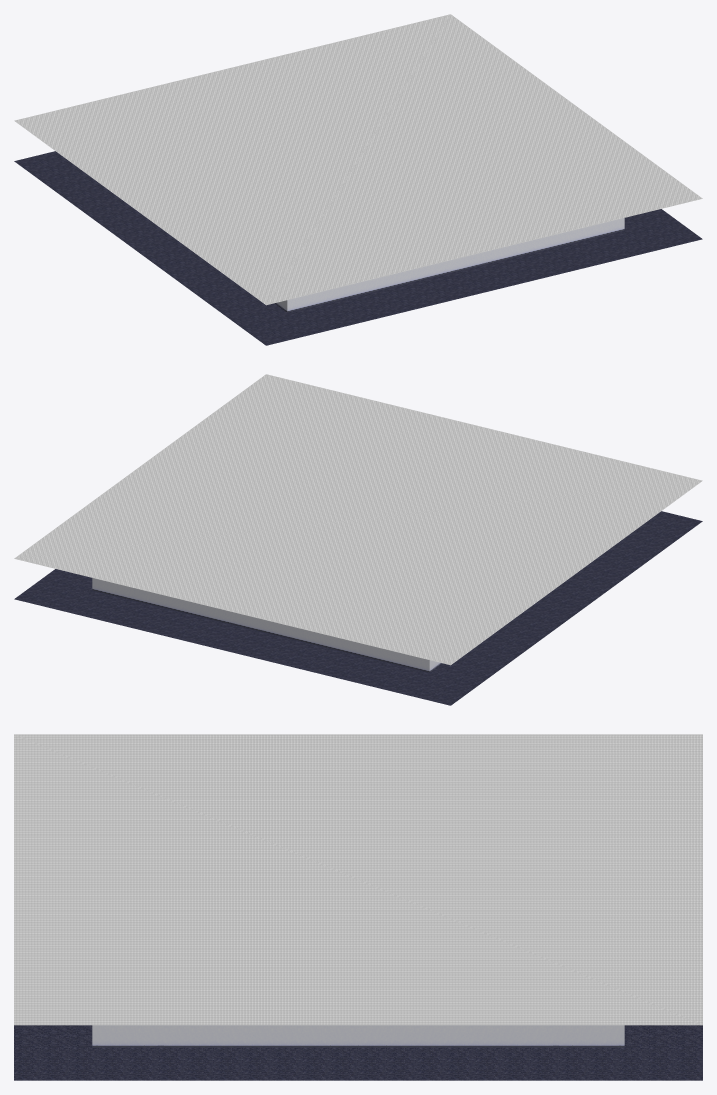
Rendered from Cinema.glb.
3 views of the same model, one above another, from view 1: azimuth 30°, elevation 25°; view 2: azimuth 150°, elevation 25°; view 3: azimuth 270°, elevation 25° (orthographic). The views are drawn at different scales.
Visible parts, largest first — view 1: Ceiling, Floor, Theater; view 2: Ceiling, Floor, Theater; view 3: Ceiling, Floor, Theater.
Part boxes in pixels (x1,y1,x2,y2): Ceiling: [14, 14, 702, 305]; Floor: [14, 151, 702, 345]; Theater: [275, 218, 624, 312]; Ceiling: [14, 374, 702, 665]; Floor: [14, 511, 702, 705]; Theater: [92, 578, 441, 672]; Ceiling: [14, 734, 702, 1025]; Floor: [14, 1025, 702, 1080]; Theater: [92, 1025, 624, 1047].
Bounding box in the file's own units: 79 × 7 × 79.
7 materials, 7 textured.
